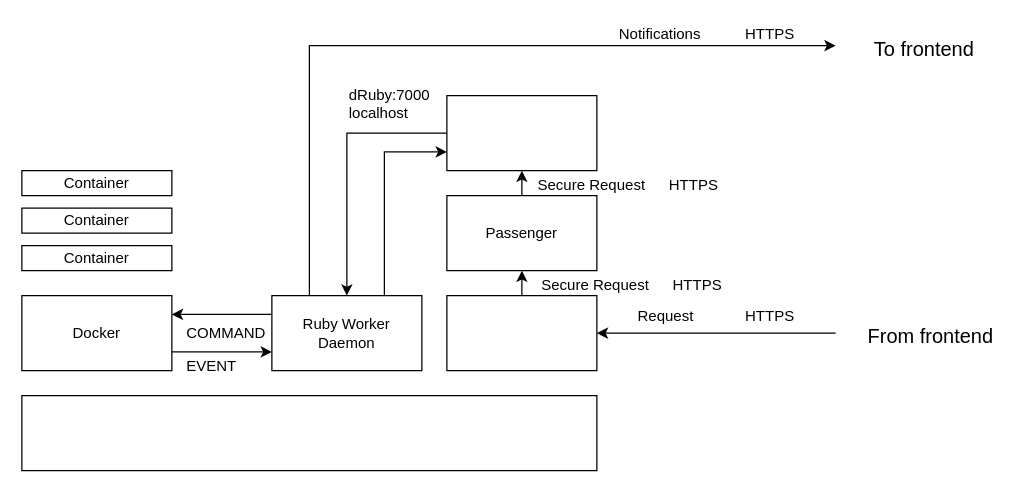
This 1025x493 diagram has some shape labels left out. Here are the shapes that lost their labels. From the top down, the box of each, then its label:
(446, 94, 597, 171): Worker Controller
(446, 294, 597, 371): nginx
(21, 394, 597, 471): Debian 8
